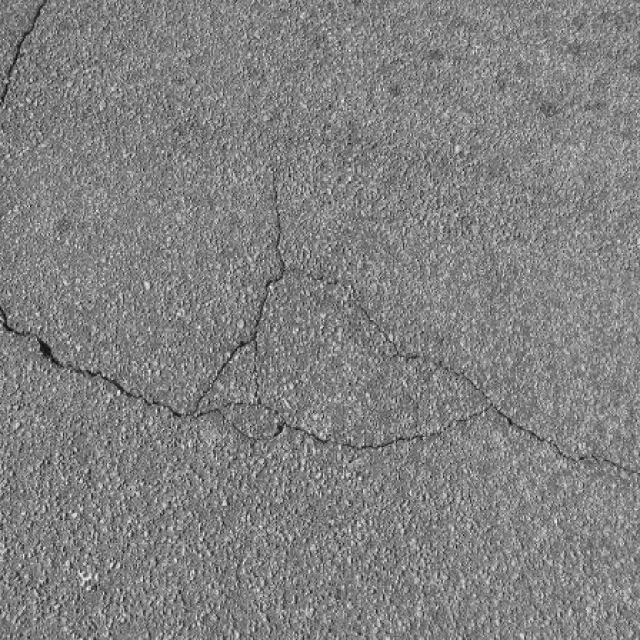Crack: (1, 172, 468, 422), (2, 313, 491, 451), (416, 366, 570, 461), (499, 413, 640, 474), (0, 0, 47, 101)
